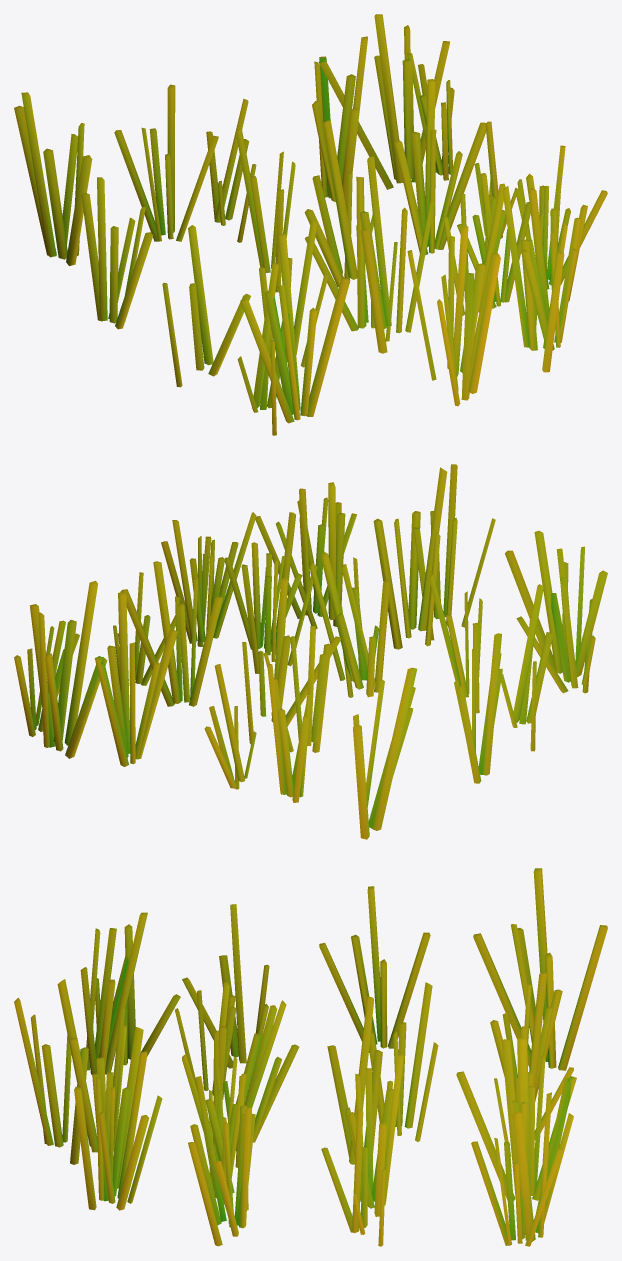
The model's file is SM_Rice_5.fbx.
The picture shows the model from 3 angles, top to bottom: view 1: azimuth 30°, elevation 25°; view 2: azimuth 150°, elevation 25°; view 3: azimuth 270°, elevation 25°; orthographic projection. The views are drawn at different scales.
Parts seen in each view (by area): view 1: SM_Rice_5; view 2: SM_Rice_5; view 3: SM_Rice_5.
Part boxes in pixels (box(x1,y1,x2,y2)): SM_Rice_5: box(14, 14, 607, 435); SM_Rice_5: box(14, 464, 607, 839); SM_Rice_5: box(14, 868, 607, 1246).
Bounding box in the file's own units: 1.09 × 0.4711 × 1.28.
